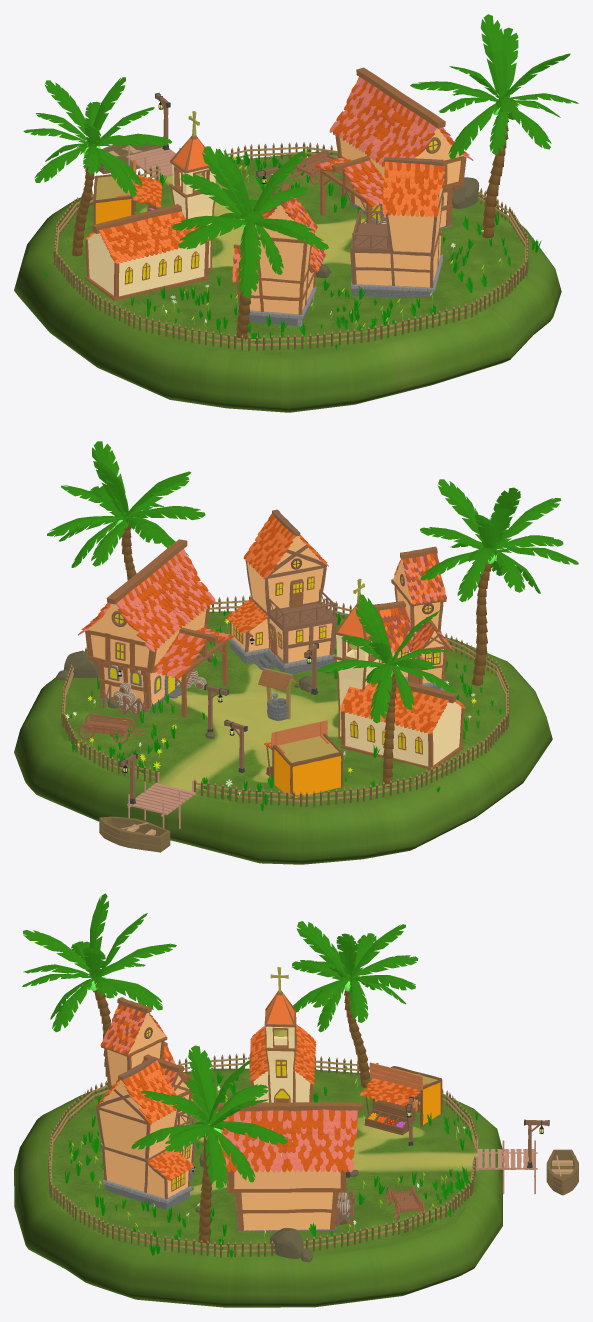
The model's file is island-transformed.glb.
The picture shows the model from 3 angles, top to bottom: view 1: azimuth 30°, elevation 25°; view 2: azimuth 150°, elevation 25°; view 3: azimuth 270°, elevation 25°; orthographic projection. The views are drawn at different scales.
Visible parts, largest first — view 1: Tavern, Island, Shop; view 2: Tavern, Island, Shop; view 3: Tavern, Island, Shop.
Part boxes in pixels (box(x1,y1,x2,y2)): Tavern: box(23, 14, 578, 351); Island: box(14, 151, 561, 412); Shop: box(95, 199, 131, 224); Tavern: box(47, 441, 578, 852); Island: box(14, 611, 552, 864); Shop: box(274, 749, 341, 797); Tavern: box(22, 893, 578, 1262); Island: box(14, 1068, 502, 1307); Shop: box(368, 1082, 440, 1124).
Size of what is drawn, in the model's own units: 179 by 99.35 by 193.
8 materials, 8 textured.
